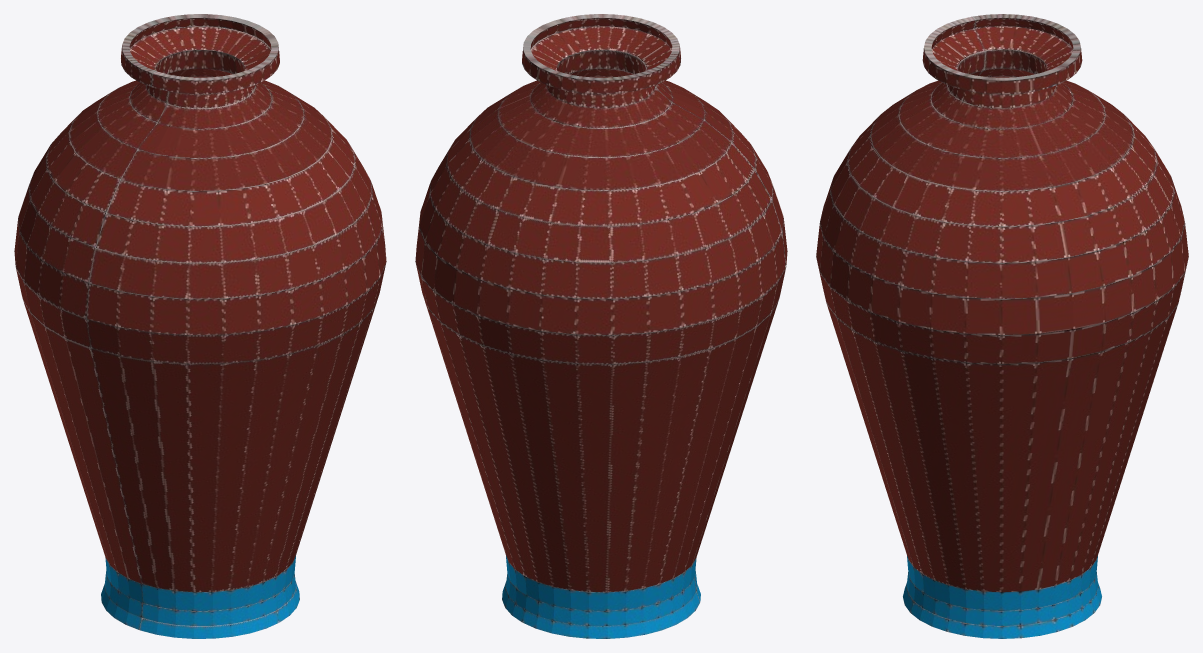
The model's file is waterpitcher(low).obj.
3 views of the same model, side by side, from view 1: azimuth 30°, elevation 25°; view 2: azimuth 150°, elevation 25°; view 3: azimuth 270°, elevation 25° (orthographic).
Visible parts, largest first — view 1: Sphere; view 2: Sphere; view 3: Sphere.
Boxes of the visible parts, bbox=[...] form: Sphere: bbox=[14, 14, 386, 638]; Sphere: bbox=[415, 14, 787, 638]; Sphere: bbox=[816, 14, 1188, 638].
Bounding box in the file's own units: 1.4 × 2.27 × 1.4.
